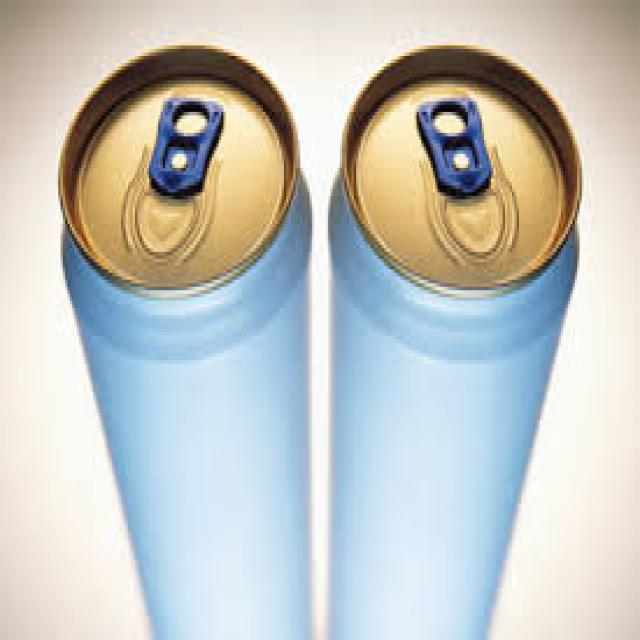can: (315, 32, 585, 633), (56, 31, 320, 639)
